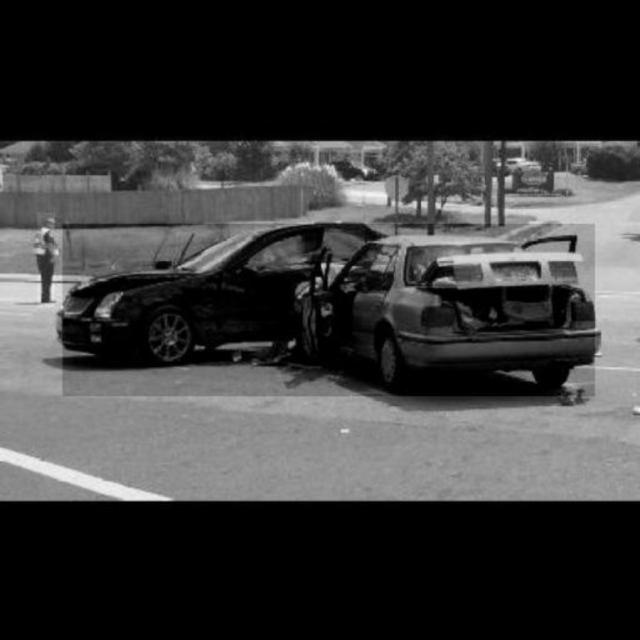accident: (63, 224, 595, 396)
person: (38, 213, 55, 307)
